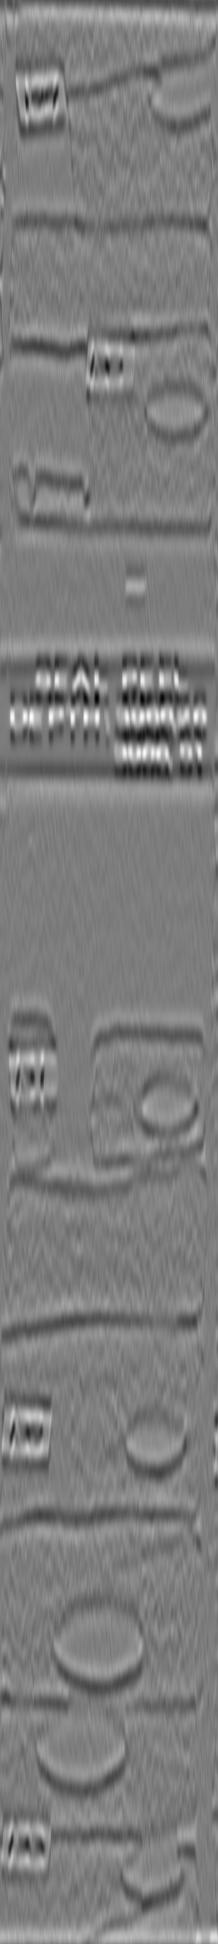hplug: (110, 1407, 199, 1482), (126, 1069, 204, 1147), (114, 1837, 194, 1913), (136, 371, 218, 443), (137, 74, 218, 130)
scal: (46, 1593, 154, 1695), (28, 1701, 137, 1796)
vplug: (7, 329, 104, 513), (1, 1313, 84, 1518), (10, 67, 88, 236)
